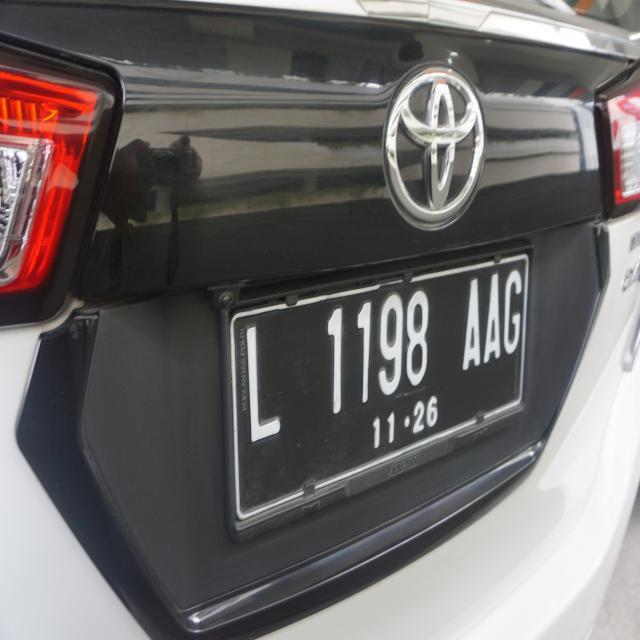1: (323, 300, 352, 423), (354, 293, 374, 409)
8: (403, 294, 433, 391)
9: (375, 292, 403, 407)
A: (456, 274, 486, 374), (478, 270, 503, 369)
G: (502, 262, 525, 363)
L: (235, 318, 289, 446)
